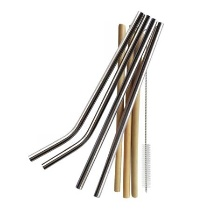drinking_straw: (25, 8, 150, 165)
